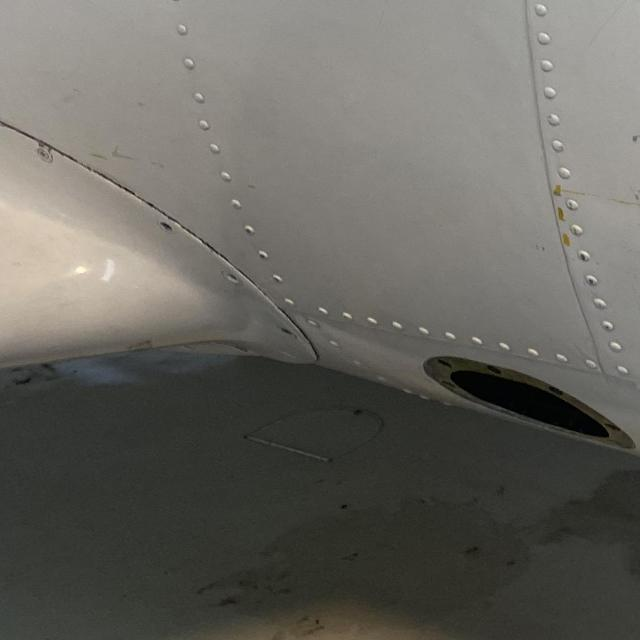Missing-head: (158, 218, 176, 240), (223, 270, 240, 285)
Paint-off: (127, 342, 151, 353), (629, 0, 640, 14)
